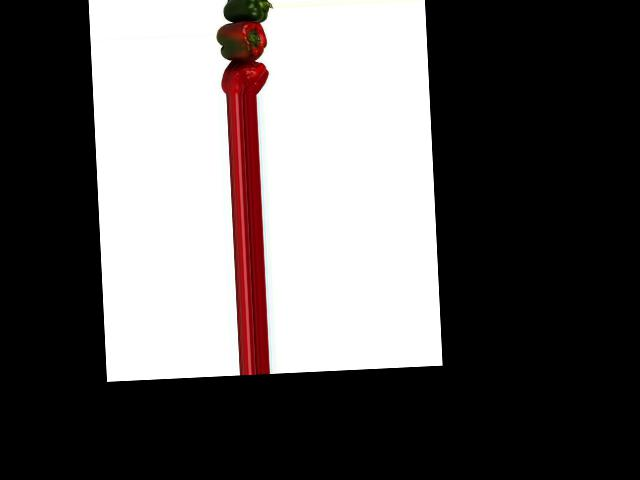bell_pepper: (217, 58, 273, 96)
